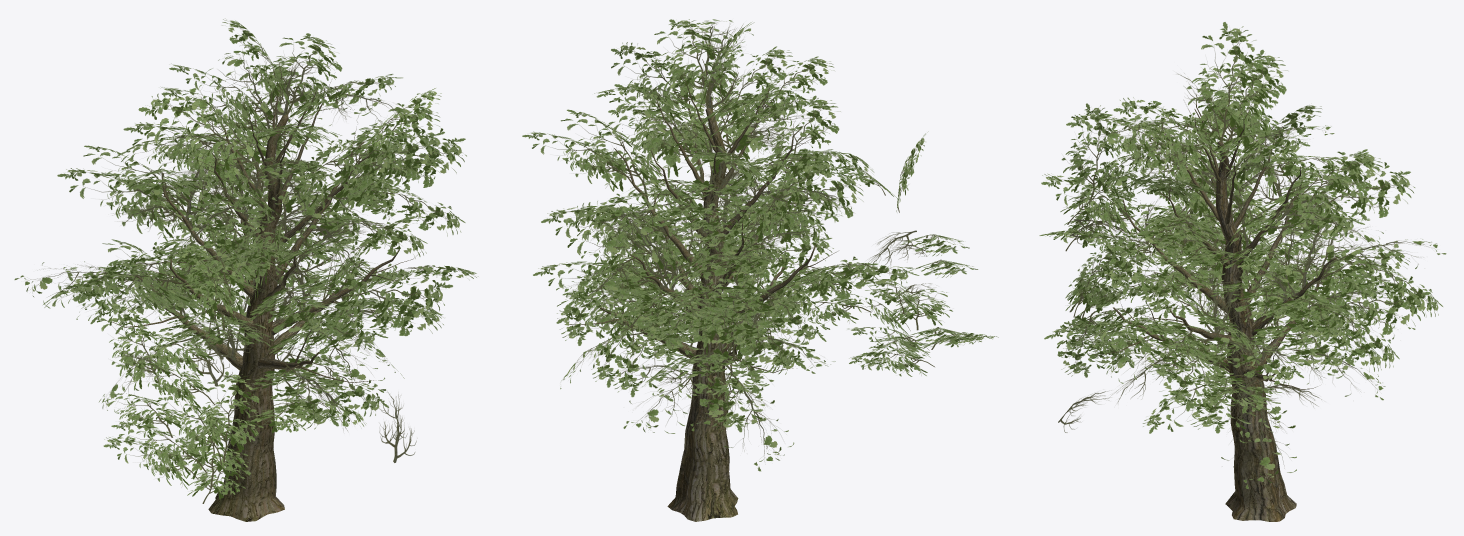
File: oak_pale_b.glb
3 views of the same model, side by side, from view 1: azimuth 30°, elevation 25°; view 2: azimuth 150°, elevation 25°; view 3: azimuth 270°, elevation 25° (orthographic). The views are drawn at different scales.
Visible parts, largest first — view 1: leafplanes_2_196_33_w; view 2: leafplanes_2_196_33_w; view 3: leafplanes_2_196_33_w.
Boxes of the visible parts, x1,y1,x2,y2 form: leafplanes_2_196_33_w: (14,18,478,521); leafplanes_2_196_33_w: (522,19,998,521); leafplanes_2_196_33_w: (1039,22,1446,521).
Size of the model in its own units: 8.65 by 10 by 7.95.
Materials: 2 (2 with a texture image).
